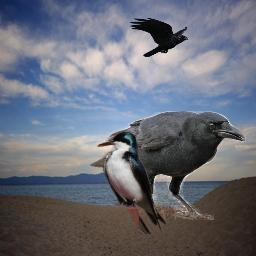Crow: (89, 111, 246, 220), (129, 17, 189, 57)
Swallow: (102, 130, 167, 234)
